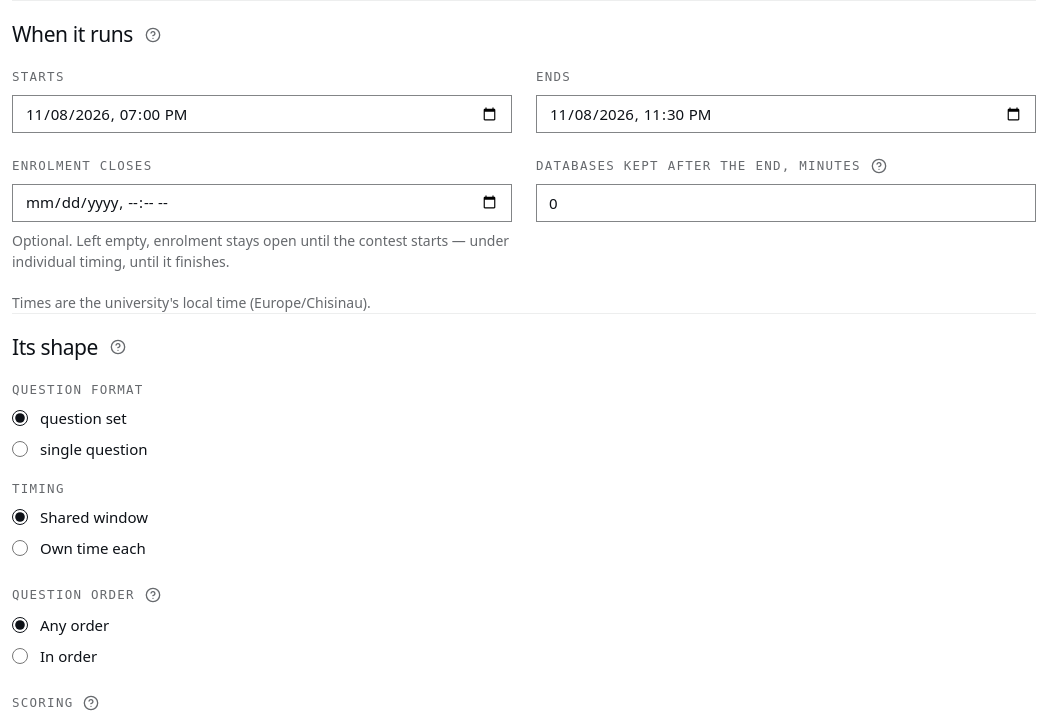
Test: ContestPanel, question order and scoring › hints that an individual-timing contest with no end date never finishes on its own
Click the radio button labelled "Own time each". click: (20, 548)
box: [12,540,28,556]
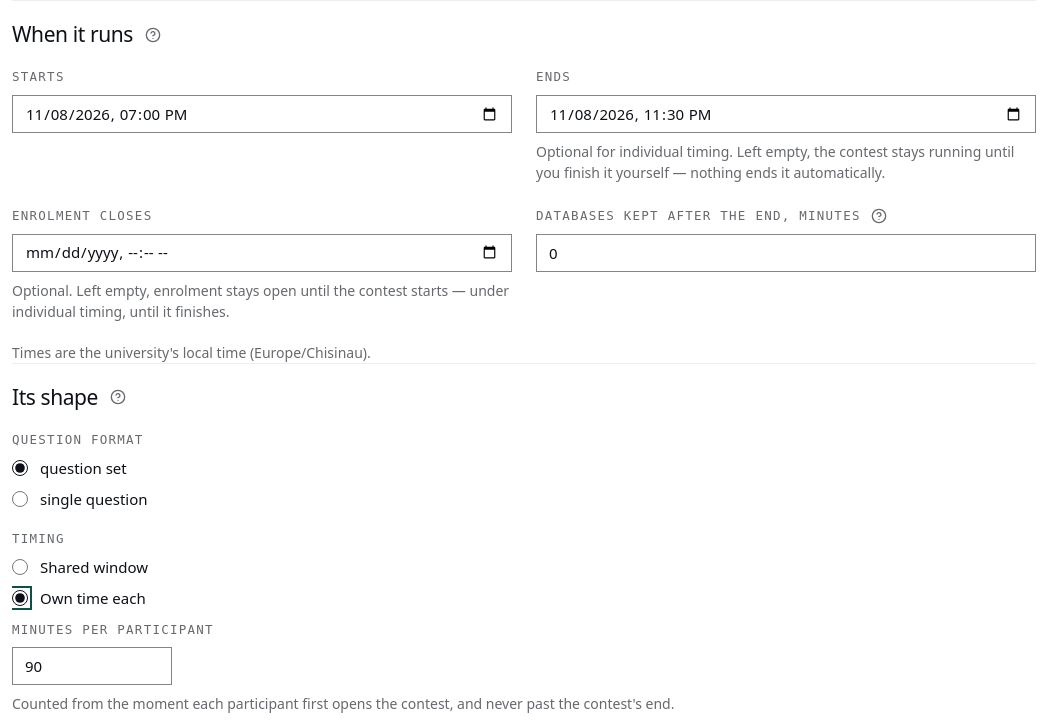
Expected: the text "Optional for individual timing. Left empty, the contest stays running until you finish it yourself — nothing ends it aut" is shown, [536,142,1014,182]
